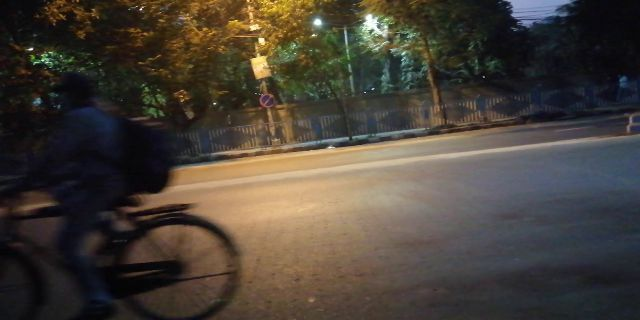Cycle: (18, 78, 236, 307)
